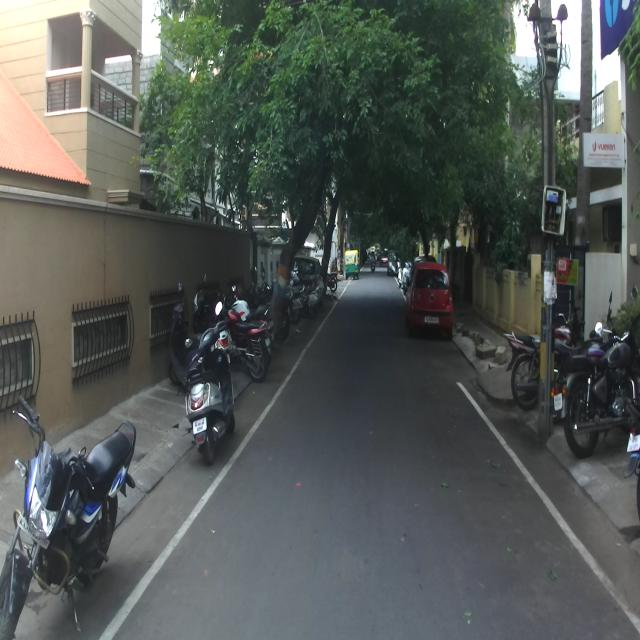car ahead at: (402, 250, 457, 340)
electric pole ahead at: (529, 0, 561, 447)
motorcycle ahead at: (0, 388, 144, 624), (553, 314, 639, 454), (183, 301, 241, 460)
